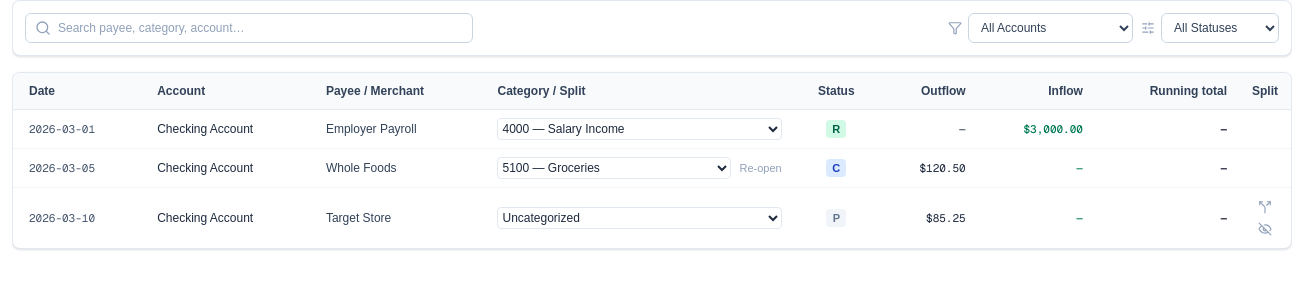
TransactionRegister › puts an ignored row back when ignoring fails
Click the button named "ignore target store": click(1265, 229) [1254, 218, 1276, 240]
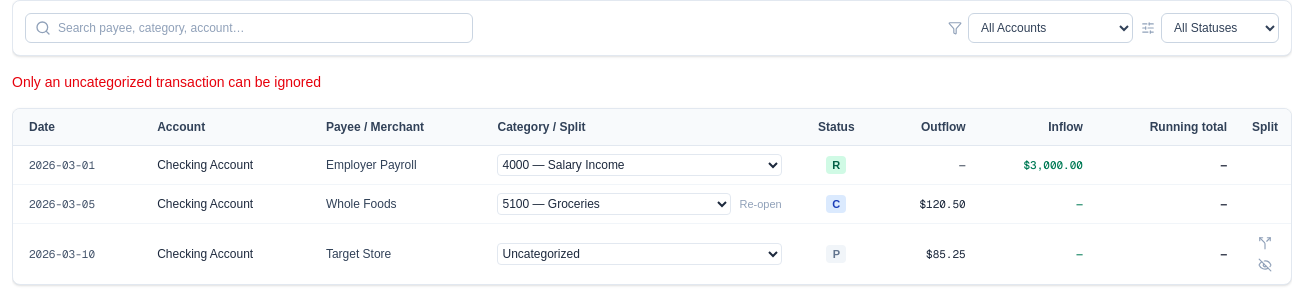
Expected: the dropdown named "Category for Target Store" is shown, [498, 243, 782, 265]
Now the text "Only an uncategorized transaction can be ignored" is shown, box [12, 74, 321, 90]
